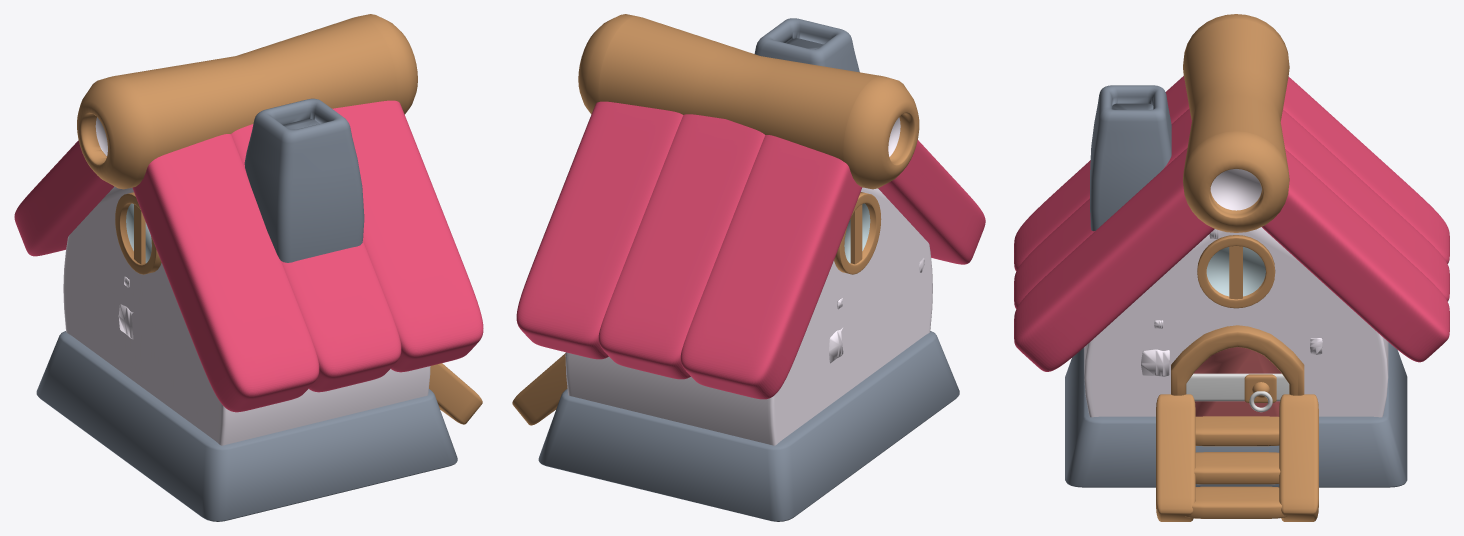
Rendered from Haus.001.fbx.
3 renders of one model, left to right at view 1: azimuth 30°, elevation 25°; view 2: azimuth 150°, elevation 25°; view 3: azimuth 270°, elevation 25°, orthographic. The views are drawn at different scales.
Parts seen in each view (by area): view 1: Haus1; view 2: Haus1; view 3: Haus1.
Part boxes in pixels (left/top/right/bottom): Haus1: left=14, top=14, right=483, bottom=521; Haus1: left=512, top=14, right=985, bottom=521; Haus1: left=1014, top=14, right=1449, bottom=521.
Bounding box in the file's own units: 297 × 317 × 342.
